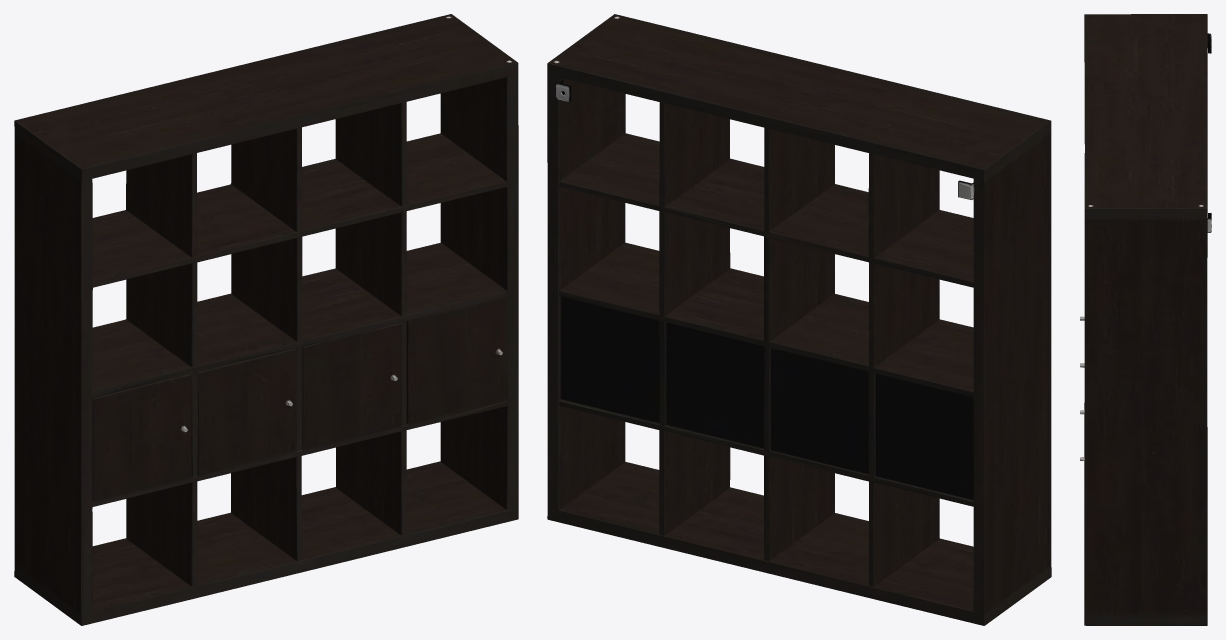
The picture shows the model from 3 angles, left to right: view 1: azimuth 30°, elevation 25°; view 2: azimuth 150°, elevation 25°; view 3: azimuth 270°, elevation 25°; orthographic projection. The views are drawn at different scales.
Visible parts, largest first — view 1: ProcessedMeshNode; view 2: ProcessedMeshNode; view 3: ProcessedMeshNode.
Part boxes in pixels (bbox=[...]): ProcessedMeshNode: bbox=[14, 14, 518, 625]; ProcessedMeshNode: bbox=[547, 14, 1051, 625]; ProcessedMeshNode: bbox=[1080, 14, 1211, 625].
Bounding box in the file's own units: 1.47 × 1.47 × 0.4201.
1 material, 1 textured.
